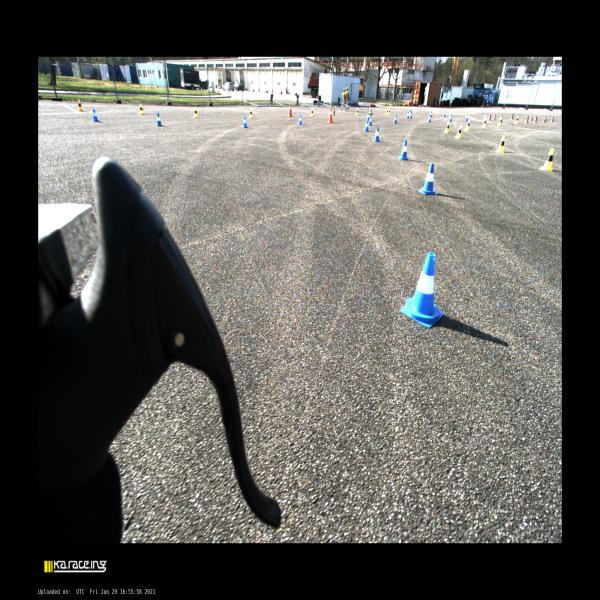blue_cone: (400, 252, 444, 328), (418, 164, 438, 194), (398, 140, 408, 160), (372, 127, 380, 142), (156, 112, 163, 126), (93, 108, 100, 121), (242, 115, 248, 128), (364, 120, 369, 131), (393, 114, 398, 124), (368, 116, 373, 125), (298, 114, 302, 125), (482, 113, 487, 121), (366, 112, 370, 120), (464, 113, 468, 121), (428, 115, 432, 122), (406, 111, 409, 119), (442, 110, 445, 117), (449, 114, 452, 121), (430, 110, 432, 118), (410, 112, 412, 118)
large_orange_cone: (327, 106, 335, 123), (288, 103, 293, 117)
orange_cone: (533, 115, 538, 123), (492, 112, 496, 120), (499, 112, 503, 120), (510, 112, 514, 120), (543, 115, 547, 123), (525, 116, 529, 123), (488, 113, 491, 121), (550, 116, 554, 122), (530, 114, 533, 121)
yellow_cone: (540, 148, 554, 171), (495, 136, 505, 152), (78, 99, 86, 112), (454, 126, 462, 138), (443, 121, 450, 133), (464, 120, 470, 130), (248, 109, 254, 118), (140, 103, 144, 115), (194, 107, 198, 118), (310, 107, 314, 117), (482, 118, 486, 128), (497, 118, 502, 126), (514, 116, 518, 124), (356, 108, 358, 116), (386, 108, 388, 115), (346, 86, 348, 93), (388, 108, 390, 114), (409, 108, 411, 114), (344, 88, 346, 93)
